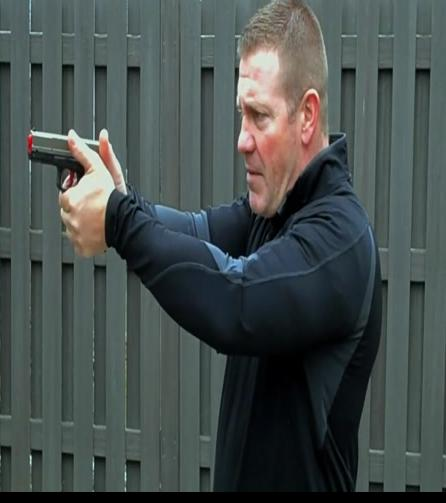pistol: (23, 127, 115, 249)
